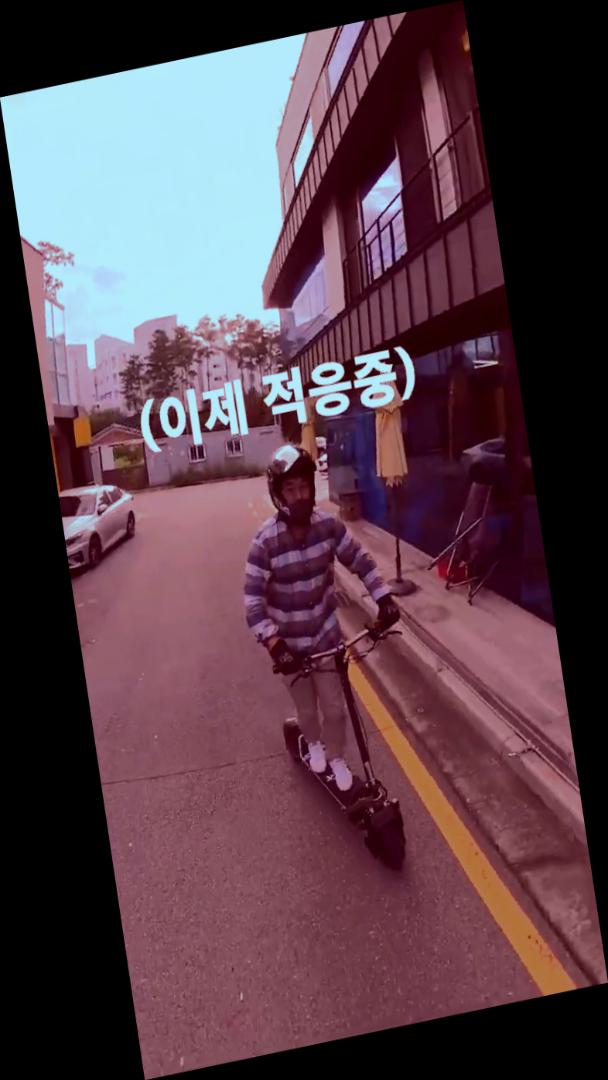helmet: (218, 425, 440, 894)
